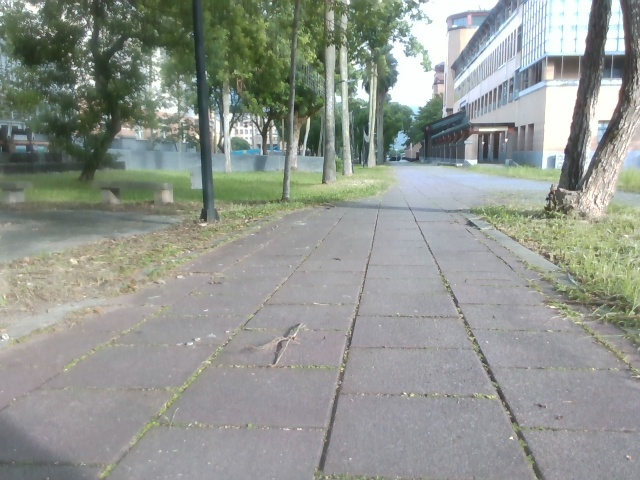grass: (0, 0, 441, 194), (0, 164, 398, 324), (455, 165, 639, 341), (552, 0, 639, 222)
road: (0, 164, 639, 479)
sidewalk: (0, 209, 187, 257)
